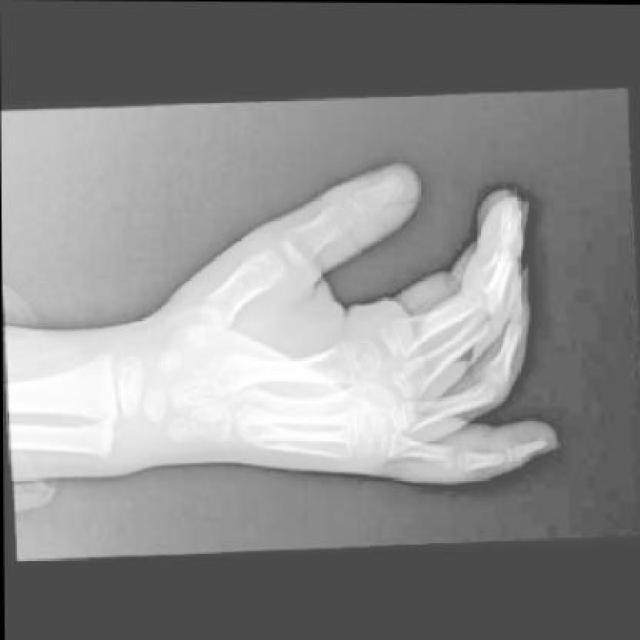Fracture: (436, 446, 467, 471)
